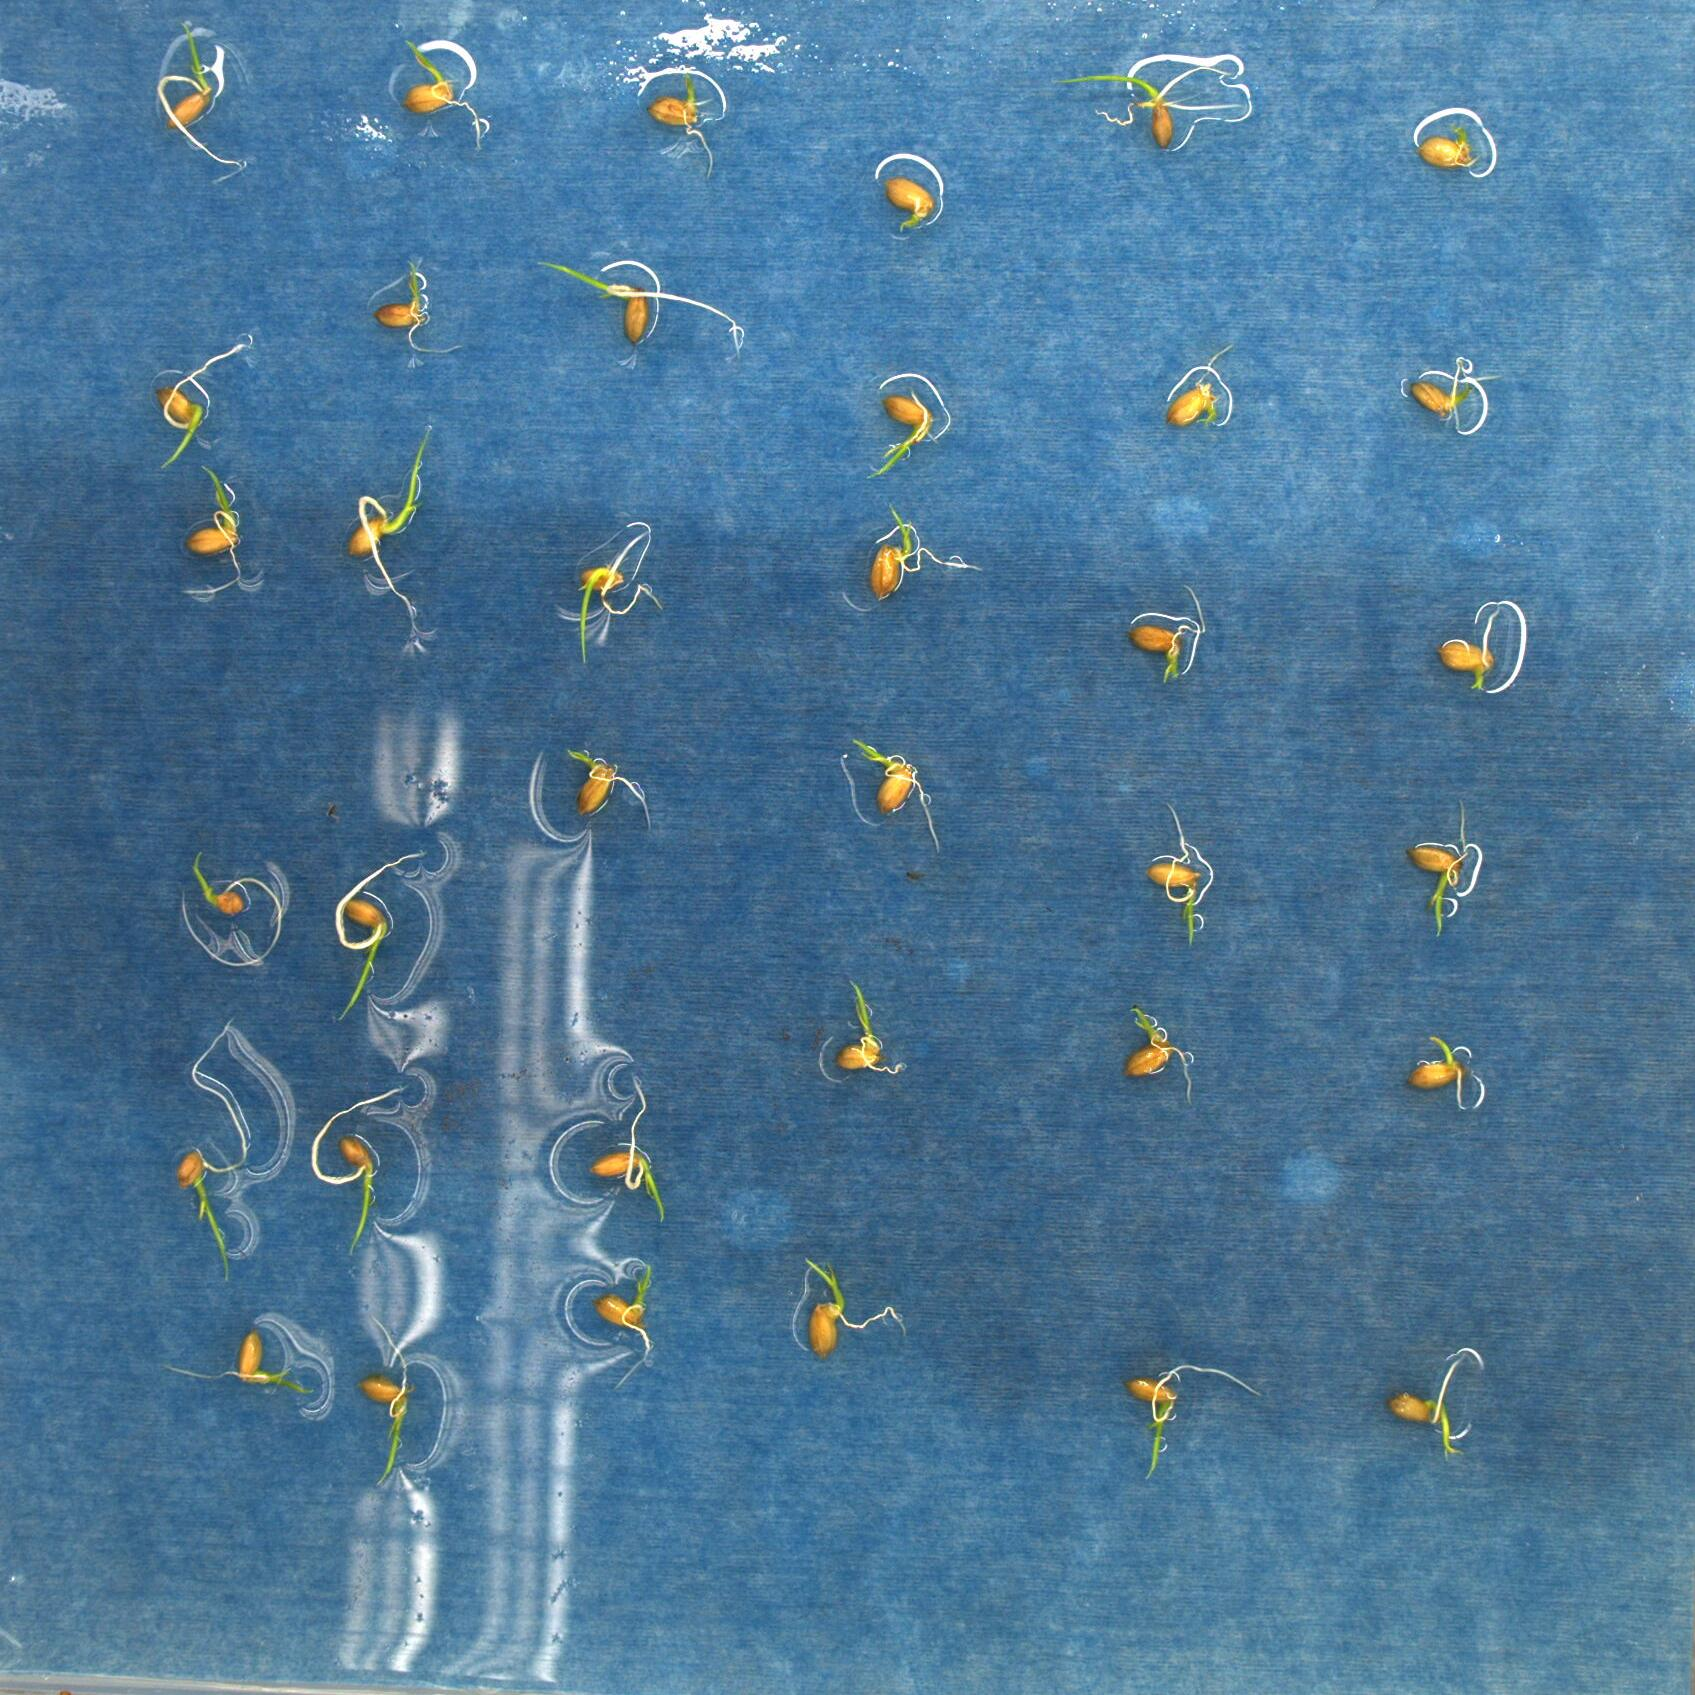not sprout: (1442, 608, 1507, 692)
sprout: (539, 258, 744, 354), (179, 1014, 247, 1282), (345, 425, 425, 640), (310, 1083, 410, 1248), (1052, 64, 1245, 147), (331, 851, 428, 1014), (157, 19, 255, 174), (1132, 1364, 1262, 1479), (841, 500, 983, 605), (573, 523, 667, 671), (151, 341, 250, 469), (180, 854, 286, 967), (847, 733, 948, 851), (799, 1245, 900, 1355), (161, 1329, 310, 1402), (588, 1071, 664, 1211), (393, 40, 487, 151), (1386, 1350, 1478, 1459), (373, 258, 469, 355), (175, 466, 248, 594), (1142, 807, 1211, 944), (355, 1313, 407, 1489), (650, 56, 723, 169), (1125, 588, 1208, 686), (1121, 1004, 1198, 1099), (1394, 355, 1506, 421), (1158, 338, 1236, 432), (1412, 806, 1467, 934), (573, 747, 658, 827), (854, 386, 930, 477), (594, 1263, 650, 1383), (830, 979, 900, 1066), (1405, 1034, 1468, 1114), (1411, 121, 1481, 172), (879, 175, 936, 231)
